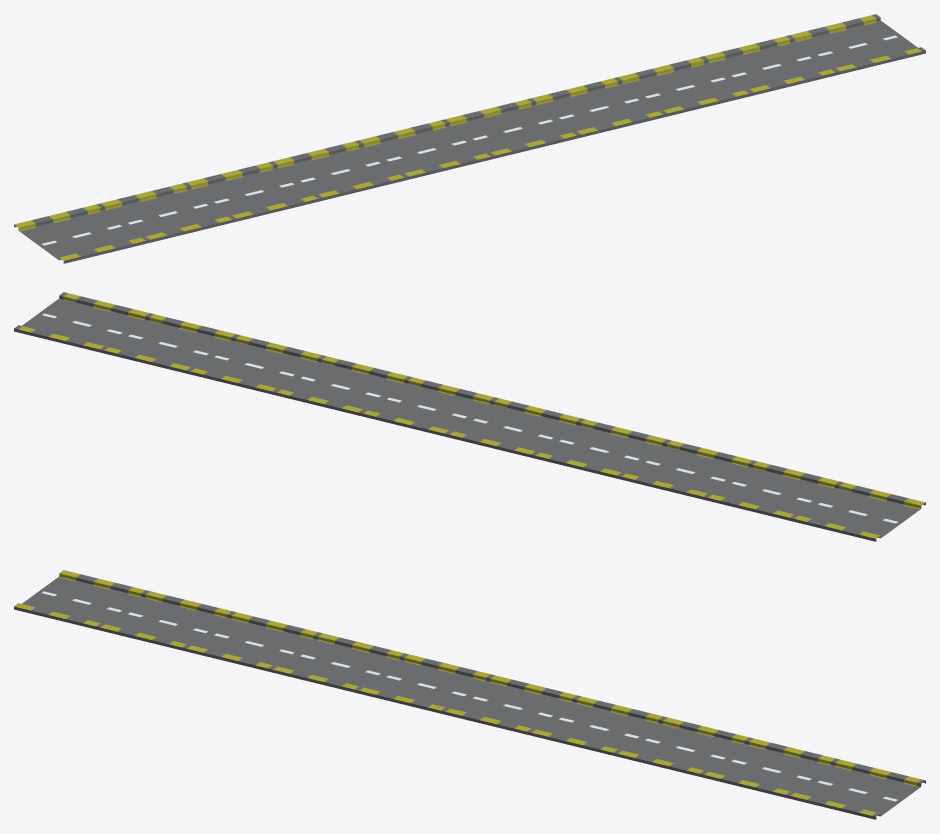
Rendered from Roads.fbx.
3 views of the same model, one above another, from view 1: azimuth 30°, elevation 25°; view 2: azimuth 150°, elevation 25°; view 3: azimuth 330°, elevation 25° (orthographic).
Parts seen in each view (by area): view 1: Straight road; view 2: Straight road; view 3: Straight road.
Boxes of the visible parts, x1=… form: Straight road: x1=14, y1=14, x2=925, y2=263; Straight road: x1=14, y1=292, x2=925, y2=541; Straight road: x1=14, y1=570, x2=925, y2=819.
Size of the model in its own units: 4500 by 15 by 450.
